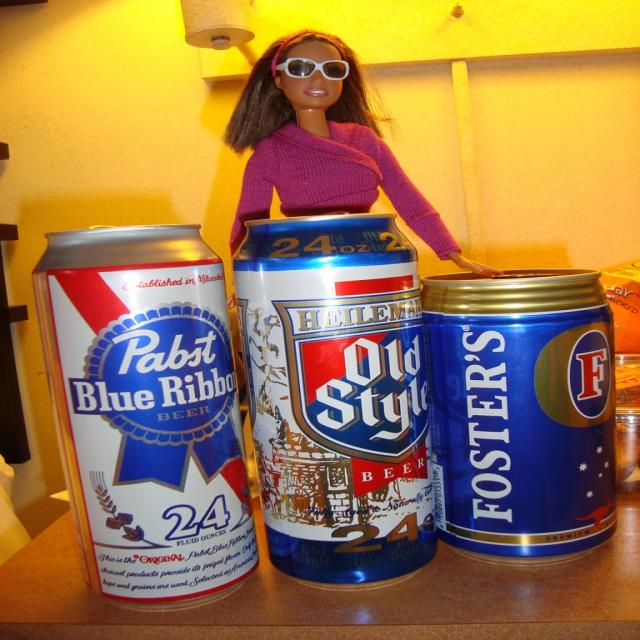fosters: (530, 321, 618, 429)
